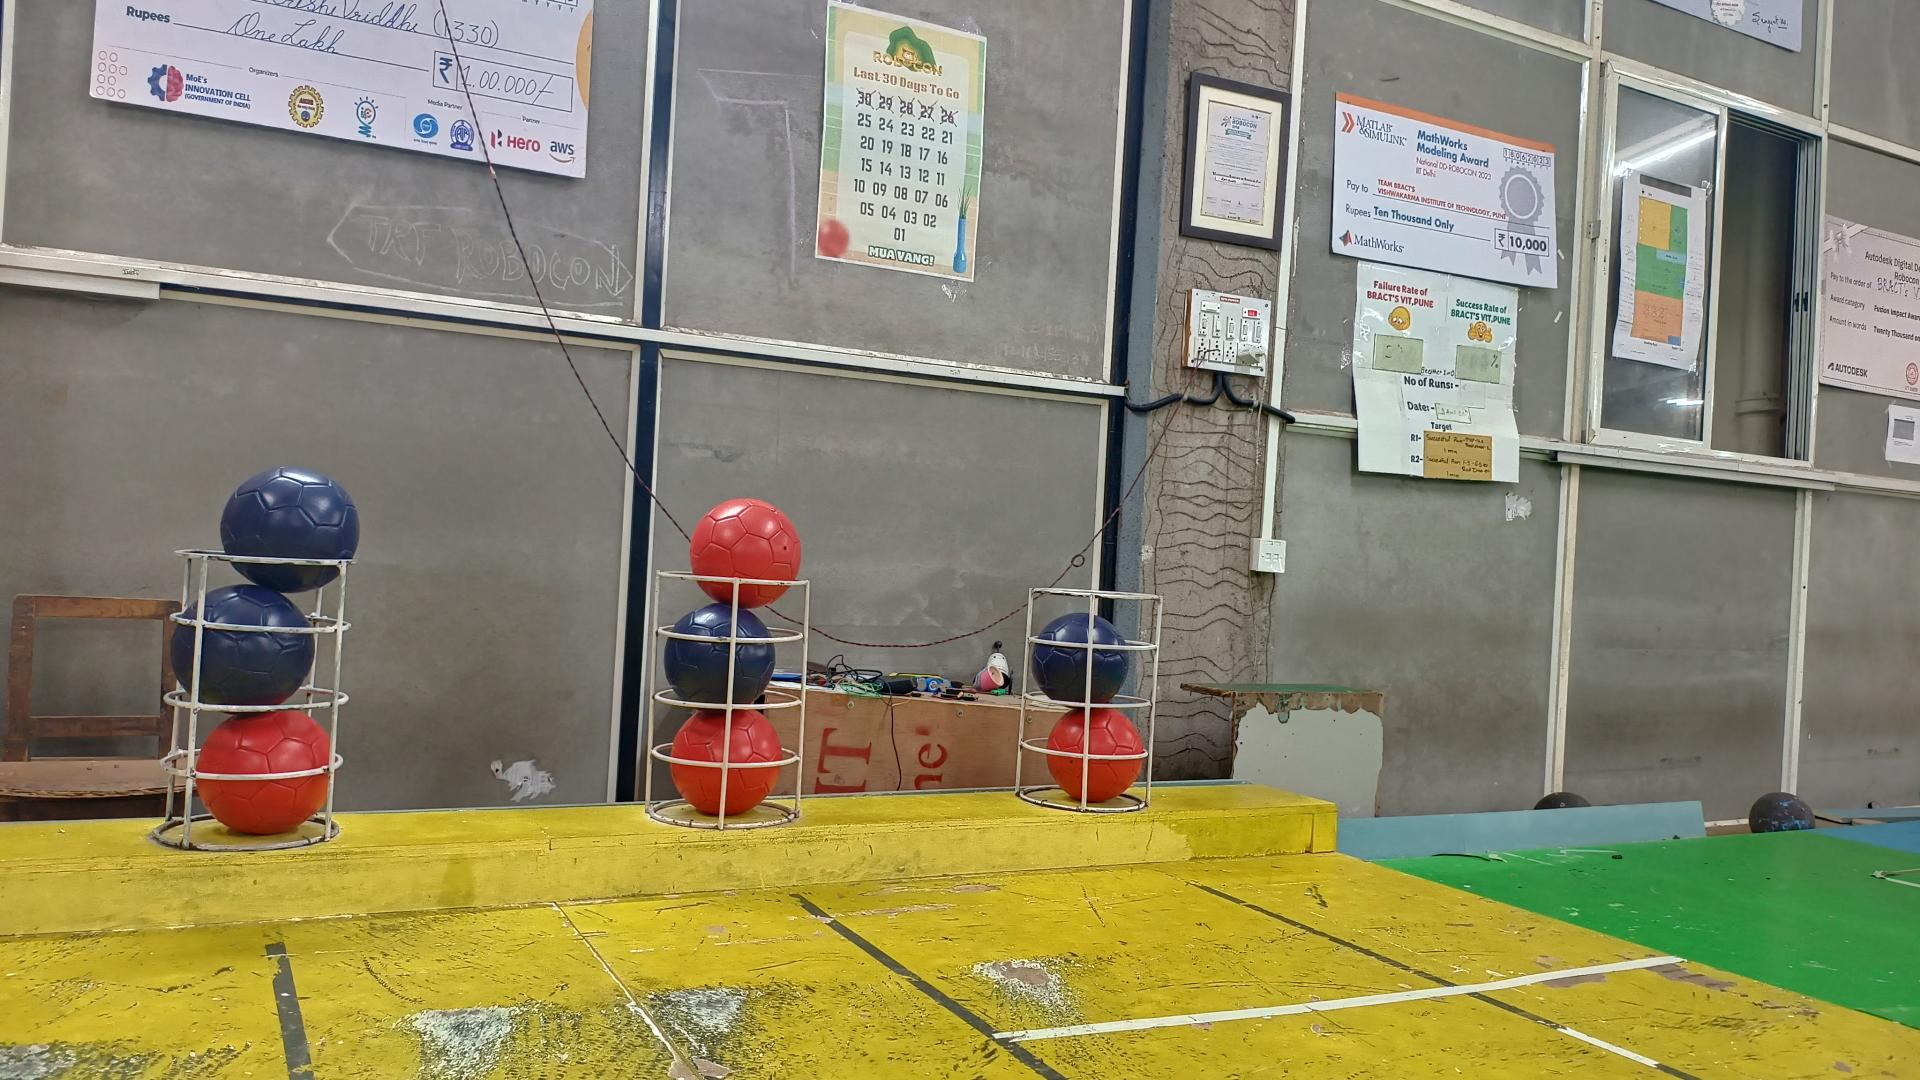dhoka: (169, 583, 315, 707), (220, 465, 359, 593), (663, 601, 775, 703), (1029, 612, 1130, 705)
laale: (195, 711, 334, 835), (687, 498, 799, 608), (669, 711, 782, 816), (1047, 709, 1145, 803)
